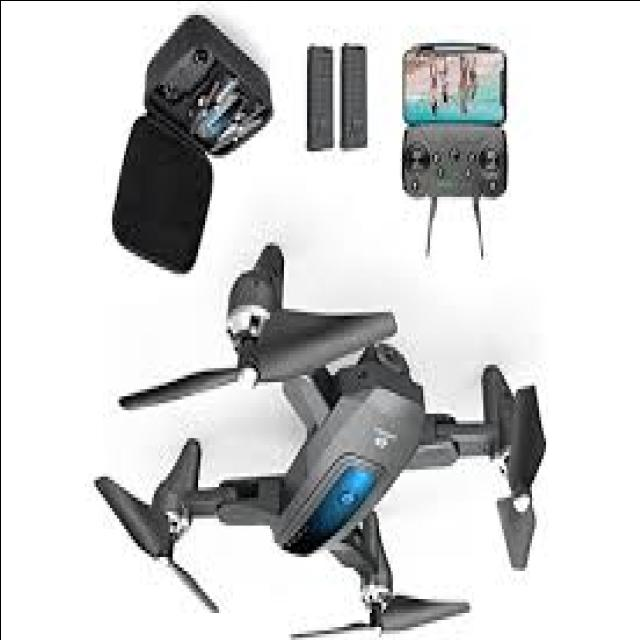drone: (80, 237, 568, 632)
